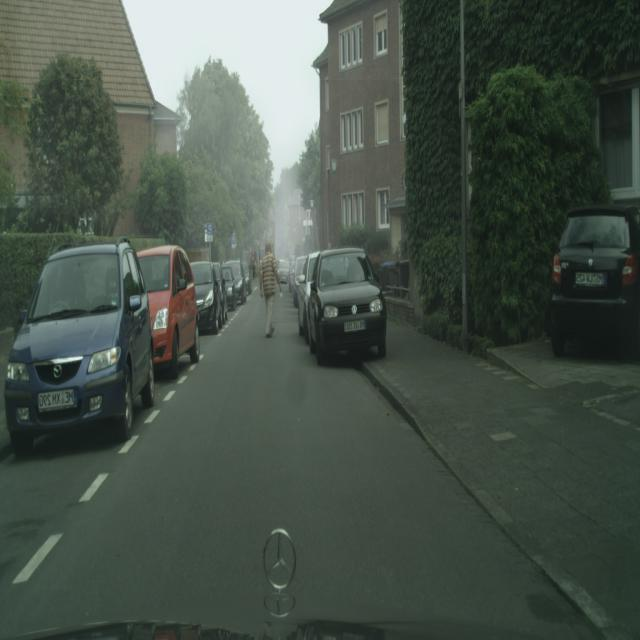bus: (3, 236, 156, 457), (550, 204, 640, 359), (307, 246, 388, 364), (137, 244, 201, 379), (190, 261, 228, 333), (296, 249, 320, 341), (290, 254, 307, 308), (228, 259, 247, 306), (221, 262, 238, 311), (241, 261, 252, 296), (278, 259, 290, 282)
person: (259, 241, 282, 338)
